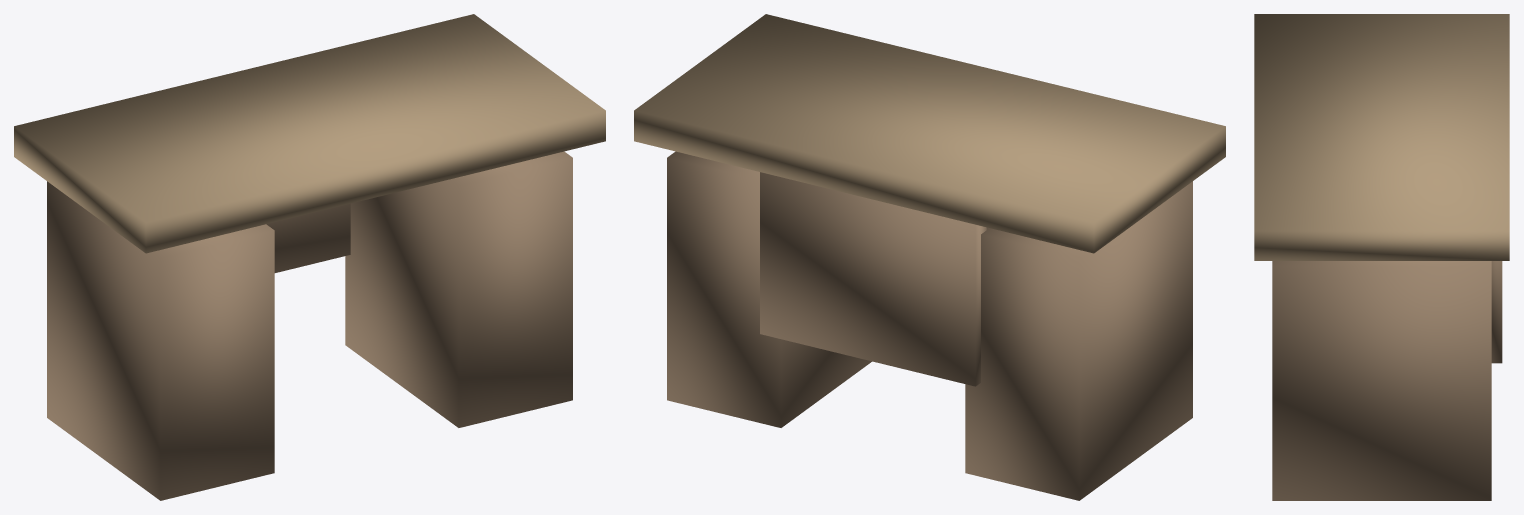
File: office_desk__tall.glb
The picture shows the model from 3 angles, left to right: view 1: azimuth 30°, elevation 25°; view 2: azimuth 150°, elevation 25°; view 3: azimuth 270°, elevation 25°; orthographic projection. The views are drawn at different scales.
Parts seen in each view (by area): view 1: world; view 2: world; view 3: world.
Part boxes in pixels (x1,y1,x2,y2): world: [14, 14, 605, 500]; world: [634, 14, 1225, 500]; world: [1254, 14, 1509, 500].
Bounding box in the file's own units: 1.45 × 0.8758 × 0.72.
